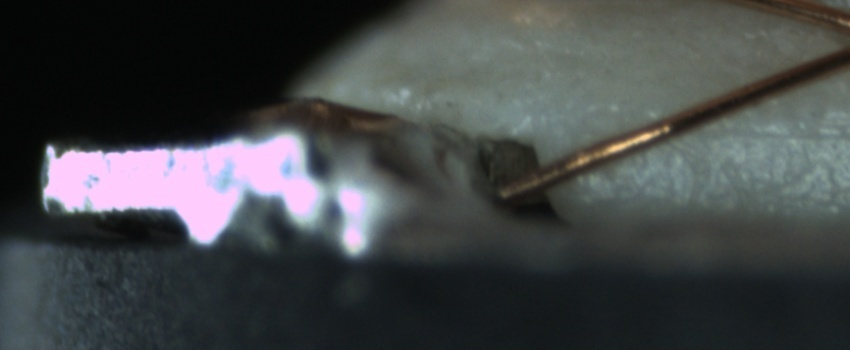DL: (666, 101, 850, 161)
